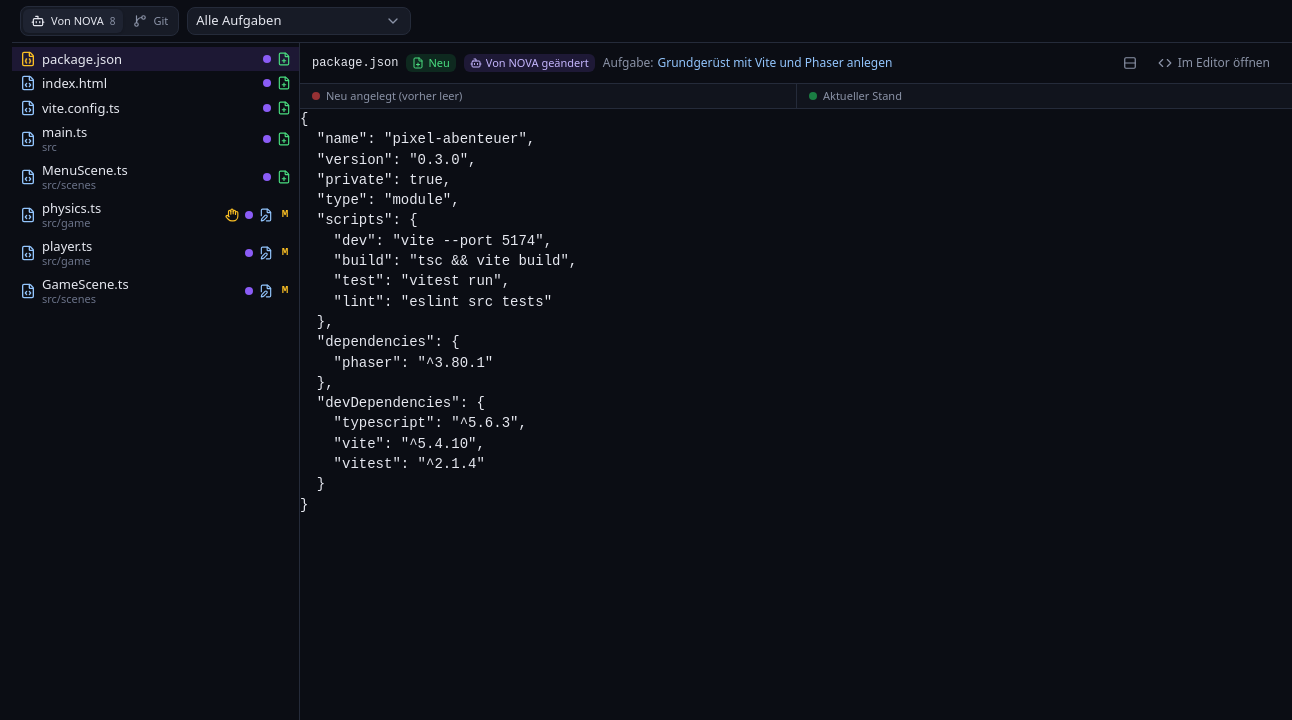
ChangesPanel › filters by task and compares against the state before that task
Select "Spielerbewegung mit Tastatur und Sprung" in the dropdown named "Nach Aufgabe filtern" at (299, 21), box top-left (187, 7), bottom-right (411, 35)
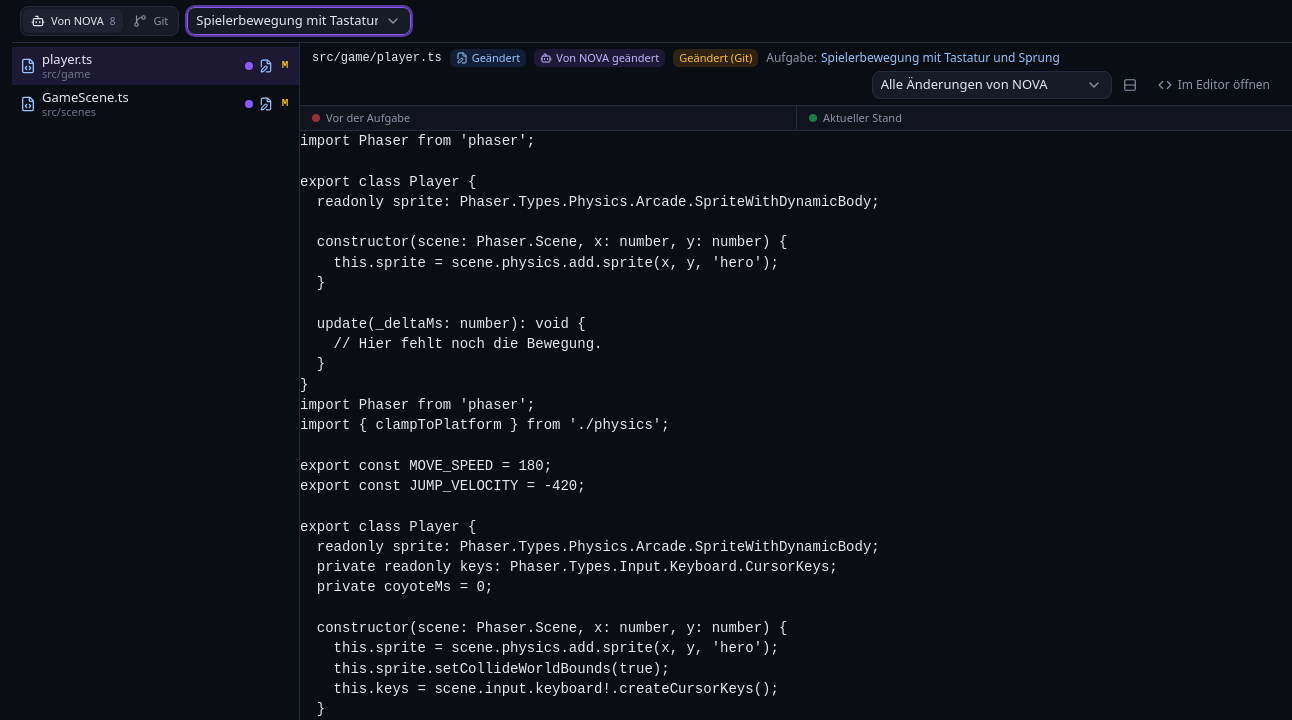
Now the text "Vor der Aufgabe" is shown, box top-left (312, 110), bottom-right (410, 125)
